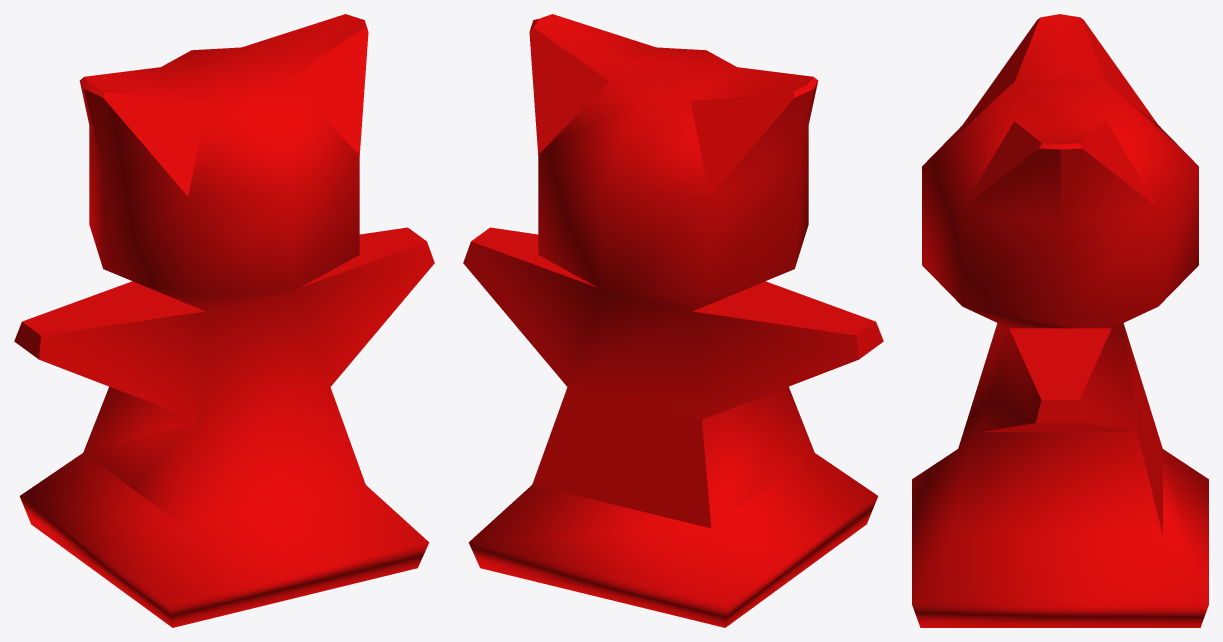
Rendered from cat.fbx.
3 renders of one model, left to right at view 1: azimuth 30°, elevation 25°; view 2: azimuth 150°, elevation 25°; view 3: azimuth 270°, elevation 25°, orthographic.
Parts seen in each view (by area): view 1: pCube1; view 2: pCube1; view 3: pCube1.
Boxes of the visible parts, box(x1,y1,x2,y2) form: pCube1: box(14, 14, 434, 627); pCube1: box(463, 14, 883, 627); pCube1: box(912, 14, 1208, 627).
Size of the model in its own units: 4.41 by 5.27 by 2.89.
